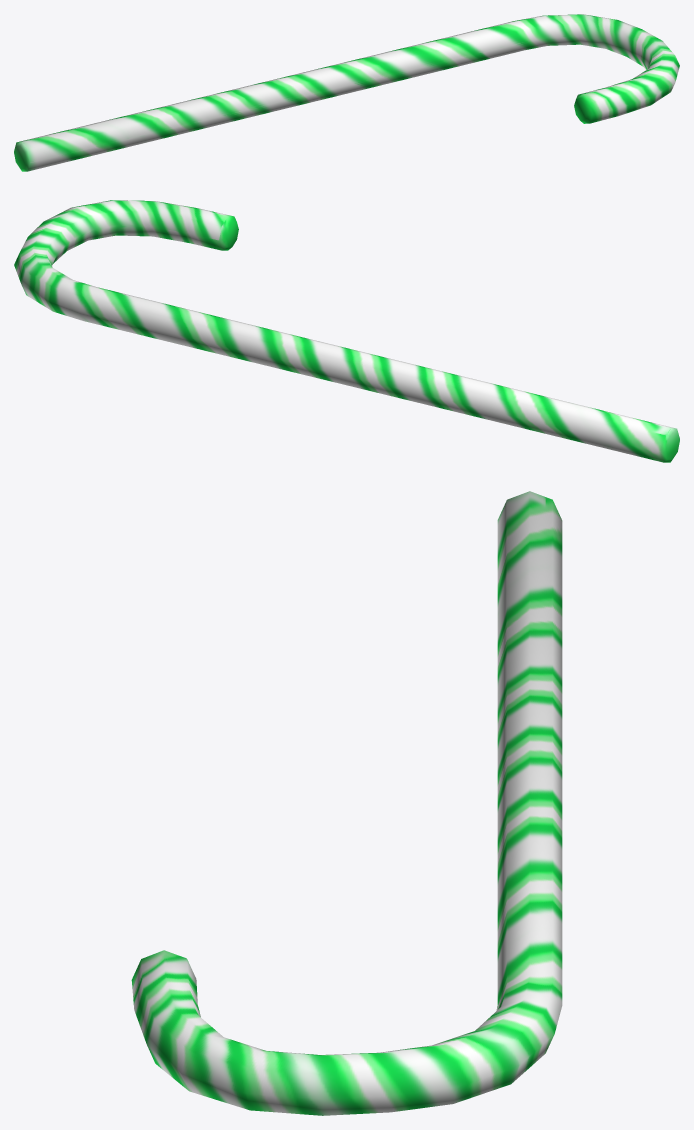
The model's file is CHP_MOD_Candy_cane_green.fbx.
3 views of the same model, one above another, from view 1: azimuth 30°, elevation 25°; view 2: azimuth 150°, elevation 25°; view 3: azimuth 270°, elevation 25° (orthographic). The views are drawn at different scales.
Visible parts, largest first — view 1: CHP_MOD_Candy_cane_green; view 2: CHP_MOD_Candy_cane_green; view 3: CHP_MOD_Candy_cane_green.
Boxes of the visible parts, bbox=[...] form: CHP_MOD_Candy_cane_green: bbox=[14, 14, 679, 171]; CHP_MOD_Candy_cane_green: bbox=[14, 200, 679, 462]; CHP_MOD_Candy_cane_green: bbox=[131, 491, 562, 1115].
Size of the model in its own units: 1.18 by 0.0557 by 0.3706.
